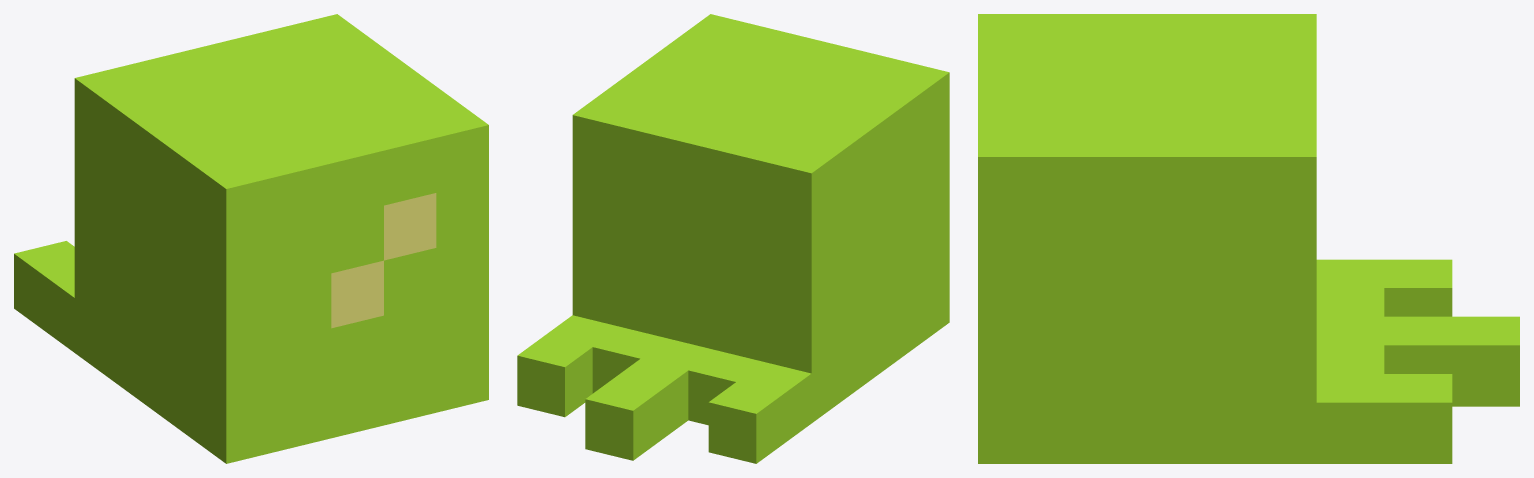
The model's file is blob_a.obj.
3 renders of one model, left to right at view 1: azimuth 30°, elevation 25°; view 2: azimuth 150°, elevation 25°; view 3: azimuth 270°, elevation 25°, orthographic. The views are drawn at different scales.
Bounding box in the file's own units: 0.5 × 0.5 × 0.8.
1 material, 1 textured.
